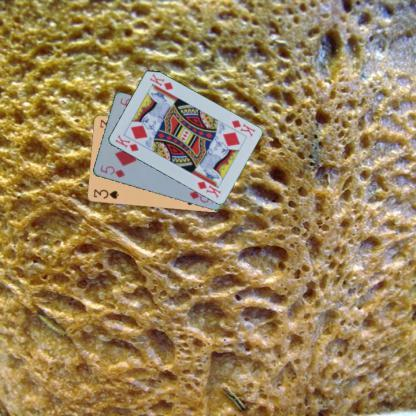3s: (90, 186, 119, 200)
5d: (97, 162, 126, 179)
Kd: (228, 117, 256, 138), (112, 132, 140, 152)
